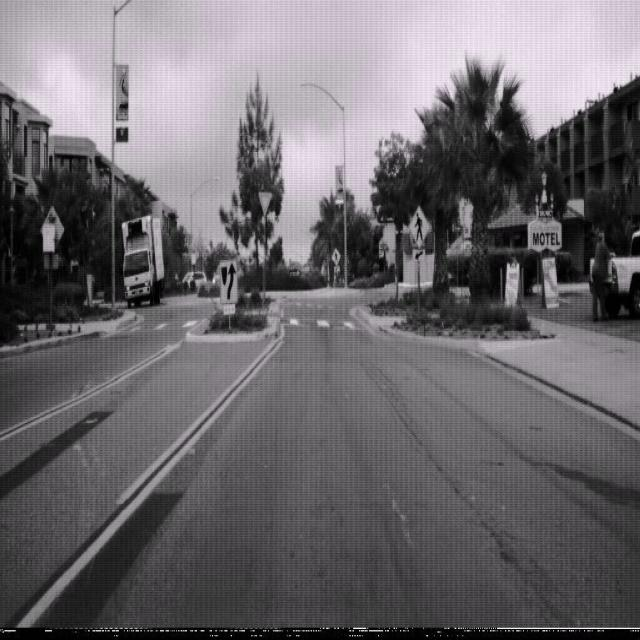pedestrianCrossing: (408, 203, 430, 249)
yield: (258, 190, 272, 217)
